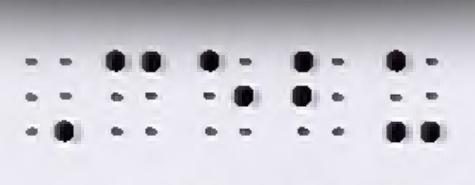C: (103, 50, 164, 140)
b: (290, 51, 345, 138)
capital: (18, 53, 81, 146)
e: (198, 49, 256, 139)
u: (384, 49, 444, 146)
